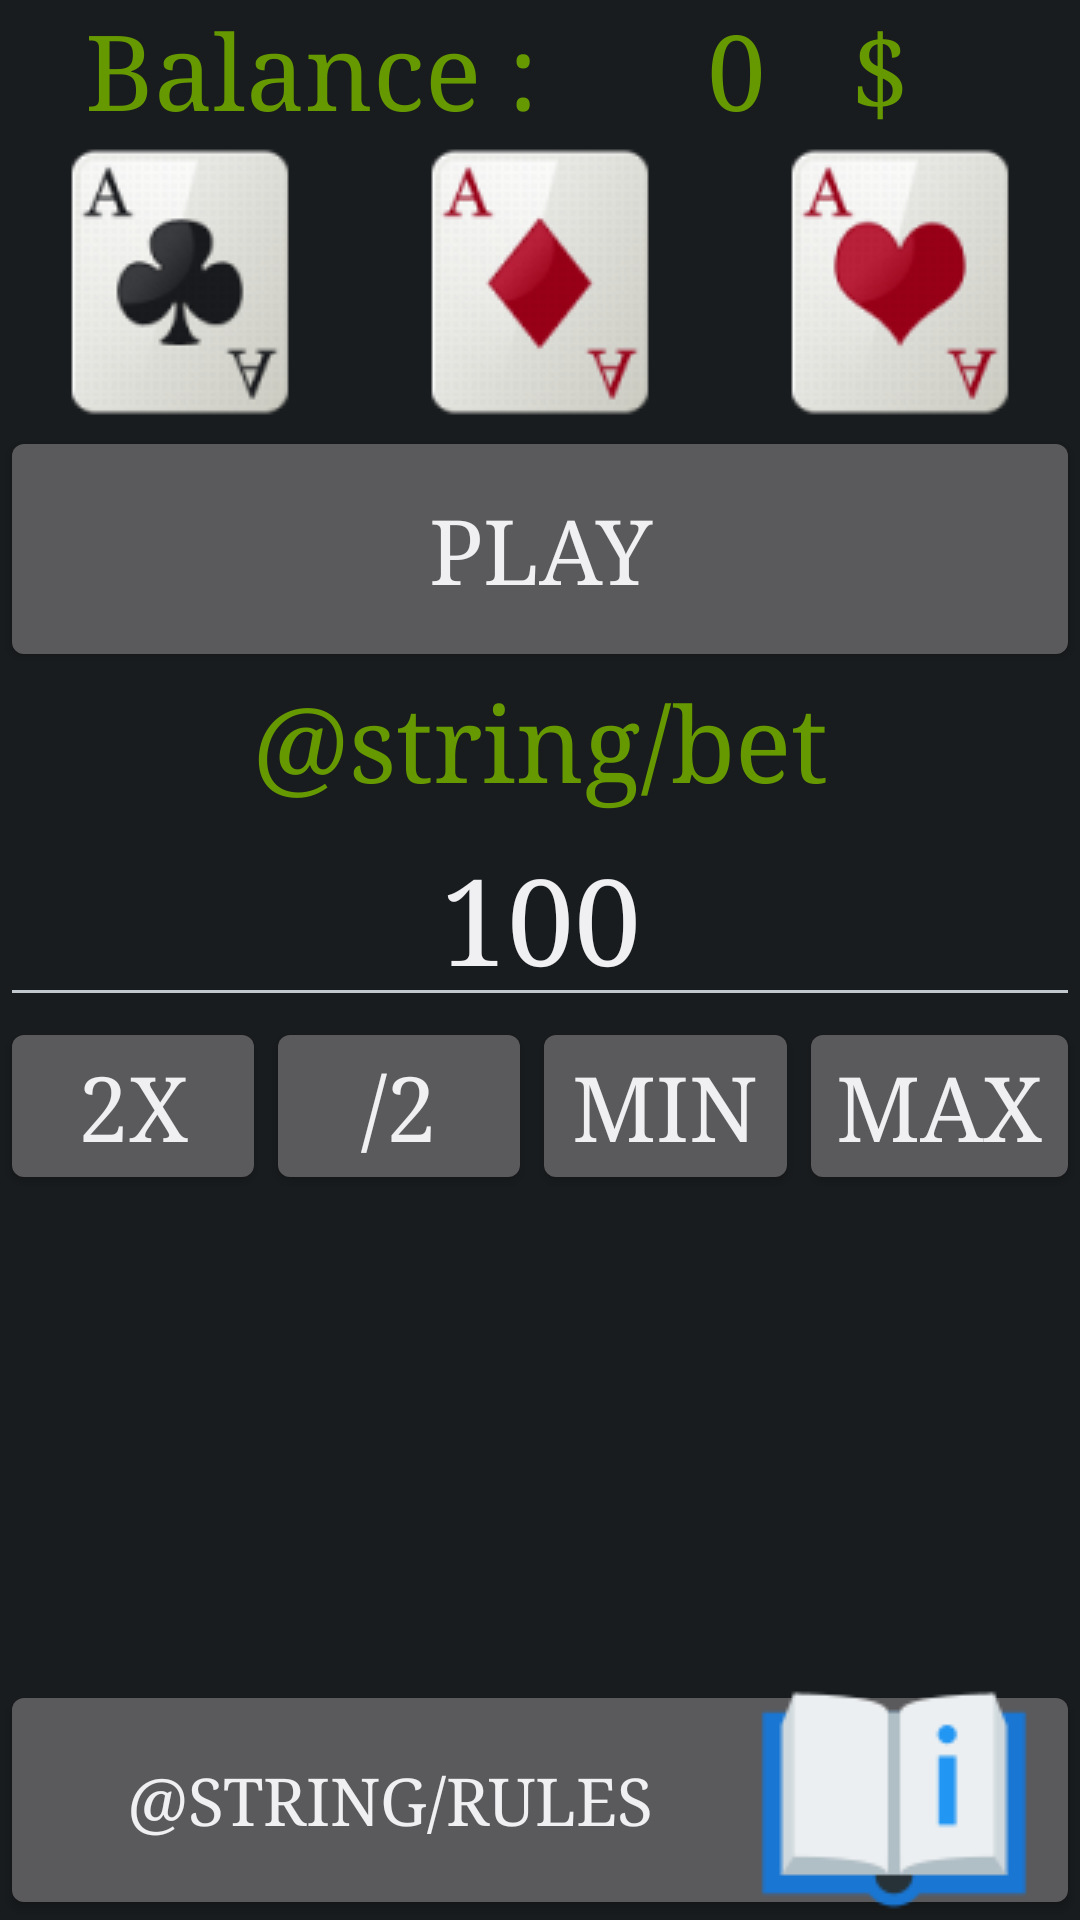

Icon bounding boxes for this 1080*1920 phone screenshot, format (x1, y1, x2, y2):
game pic: (71, 149, 289, 415), (431, 149, 649, 415), (791, 149, 1009, 415)
